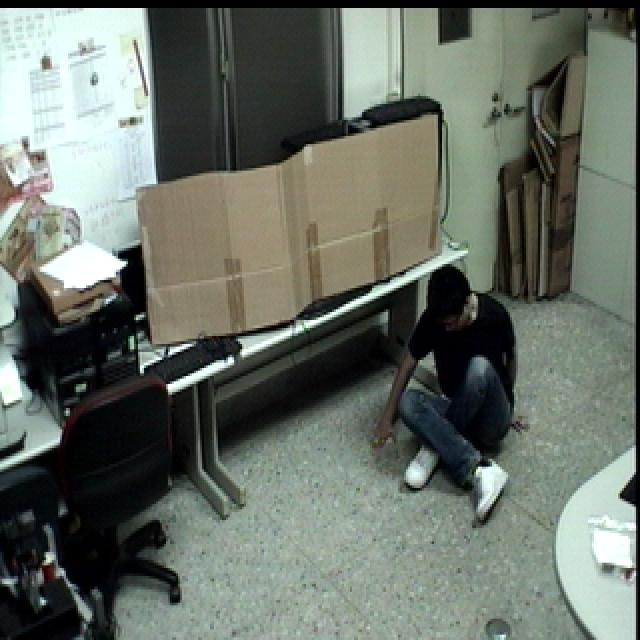sit: (370, 256, 532, 533)
